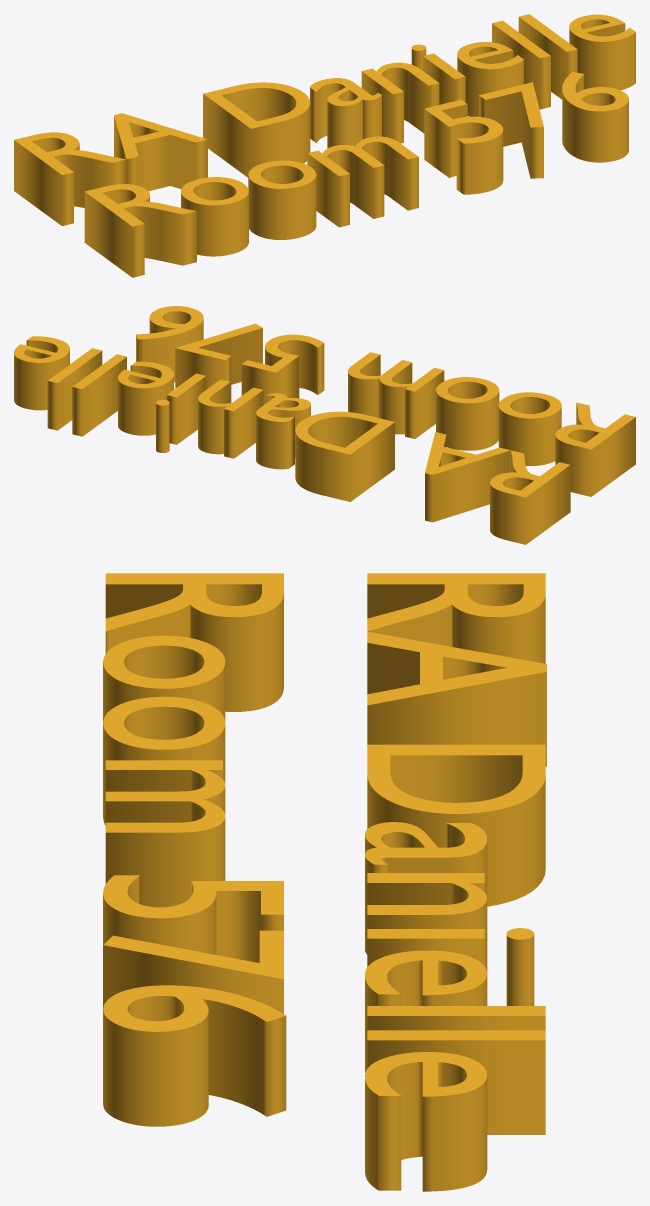
Rendered from ra-danielle-576.gltf.
The picture shows the model from 3 angles, top to bottom: view 1: azimuth 30°, elevation 25°; view 2: azimuth 150°, elevation 25°; view 3: azimuth 270°, elevation 25°; orthographic projection. The views are drawn at different scales.
Visible parts, largest first — view 1: Text; view 2: Text; view 3: Text.
Part boxes in pixels (<box>): Text: <box>14,14,635,277</box>; Text: <box>14,306,635,544</box>; Text: <box>103,573,546,1191</box>.
Size of the model in its own units: 4.73 by 0.4 by 1.69.
